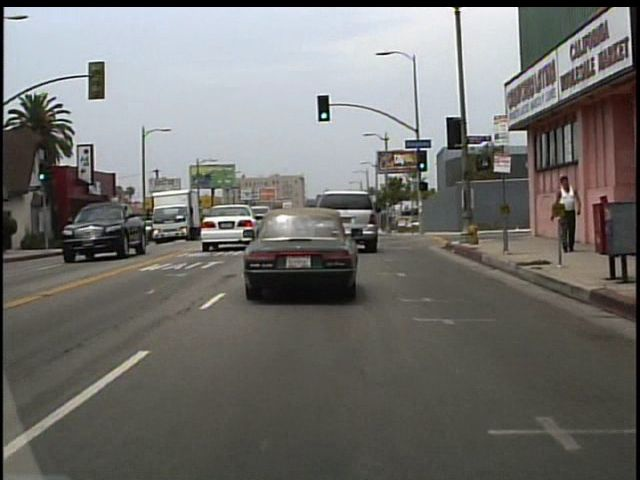person: (553, 171, 583, 256)
